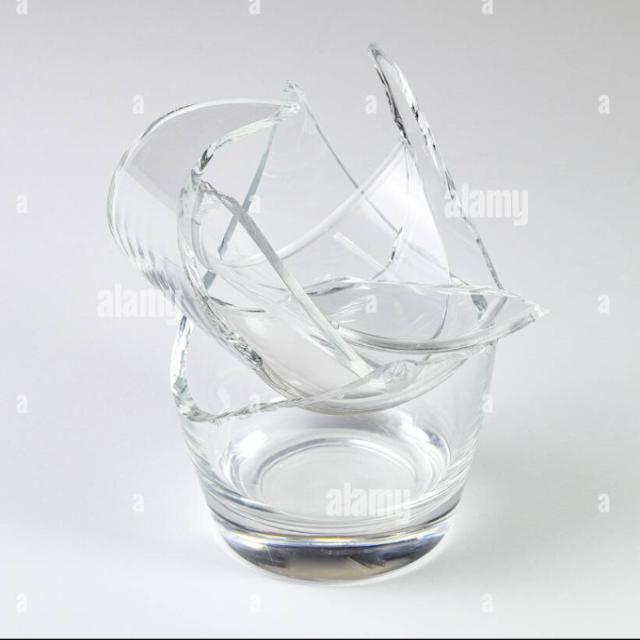PecahanKaca: (106, 41, 542, 584)
